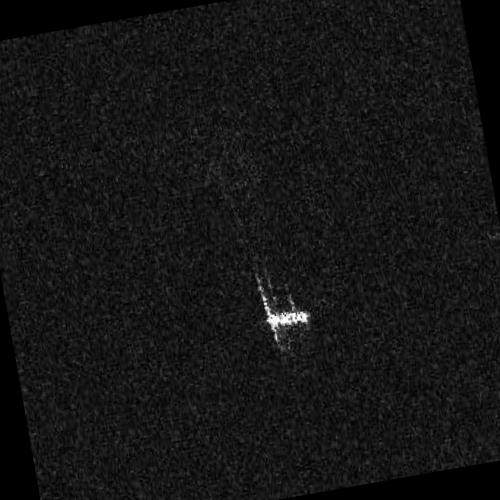ship: (264, 308, 310, 328)
